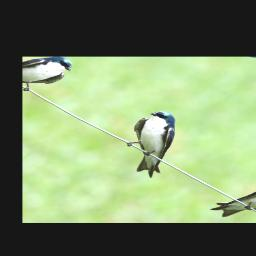Swallow: (98, 106, 211, 180)
